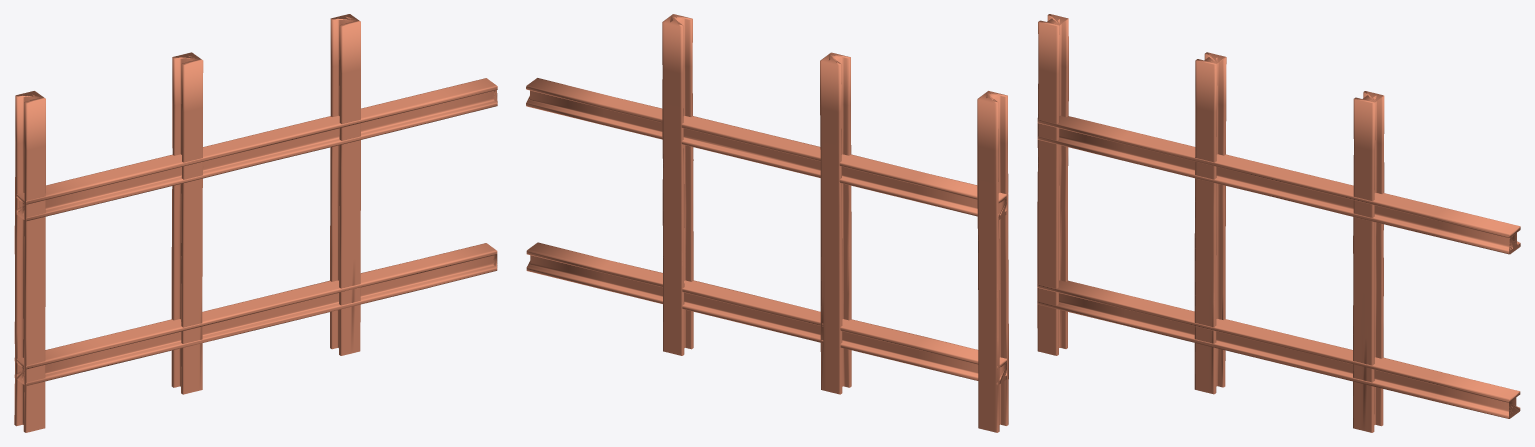
Rendered from Industrial_New_Mid_Empty_1.fbx.
3 views of the same model, side by side, from view 1: azimuth 30°, elevation 25°; view 2: azimuth 150°, elevation 25°; view 3: azimuth 330°, elevation 25° (orthographic).
Parts seen in each view (by area): view 1: NurbsPath.014; view 2: NurbsPath.014; view 3: NurbsPath.014.
Part boxes in pixels (left/top/right/bottom): NurbsPath.014: left=14, top=14, right=497, bottom=432; NurbsPath.014: left=526, top=14, right=1008, bottom=432; NurbsPath.014: left=1037, top=14, right=1520, bottom=432.
Bounding box in the file's own units: 600 × 400 × 25.5.
